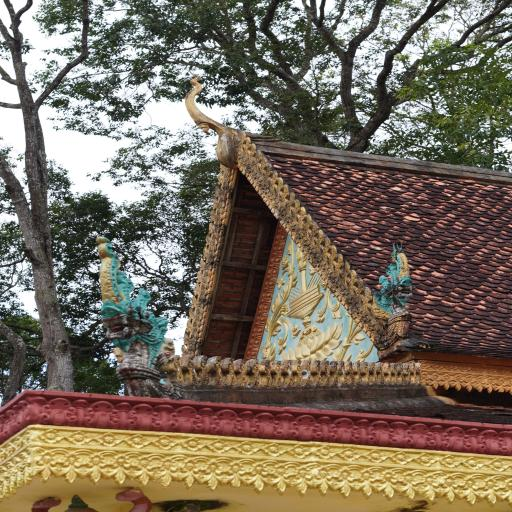hoa: (202, 455, 240, 492), (68, 449, 103, 486), (115, 450, 152, 485), (249, 460, 287, 492), (42, 448, 77, 482), (139, 451, 171, 487), (92, 450, 126, 483), (183, 455, 216, 489), (163, 453, 195, 488), (230, 458, 261, 494), (318, 464, 352, 496), (360, 466, 394, 498), (272, 464, 309, 493), (424, 471, 456, 503), (338, 464, 368, 496), (297, 464, 326, 496), (382, 468, 413, 497), (404, 470, 433, 500), (462, 475, 492, 504), (444, 474, 472, 503), (483, 477, 512, 504), (120, 432, 152, 448), (62, 429, 92, 445), (387, 449, 413, 466), (179, 436, 208, 451), (93, 431, 120, 447), (483, 455, 510, 471), (257, 442, 287, 456), (233, 439, 259, 455), (336, 446, 362, 462), (206, 436, 231, 452), (362, 449, 390, 463), (149, 436, 175, 451), (311, 445, 337, 460), (474, 375, 494, 393), (412, 452, 436, 467), (460, 456, 485, 470), (454, 373, 472, 392), (465, 373, 483, 392), (38, 428, 62, 442), (287, 444, 311, 458), (437, 454, 462, 467), (486, 376, 504, 394), (421, 372, 438, 390), (432, 373, 450, 389), (442, 374, 460, 390), (498, 376, 512, 395), (471, 364, 484, 373), (458, 364, 472, 372), (483, 366, 497, 374), (444, 363, 457, 371), (498, 367, 511, 375), (419, 361, 431, 369), (431, 362, 443, 370)
la: (89, 399, 137, 431), (45, 396, 92, 427), (132, 402, 178, 433), (173, 403, 219, 433), (216, 408, 256, 438), (254, 411, 295, 438), (334, 415, 372, 443), (410, 421, 446, 450), (372, 420, 411, 446), (295, 414, 334, 440), (445, 425, 479, 452), (163, 354, 187, 386), (476, 430, 508, 454), (176, 351, 195, 386), (230, 356, 250, 387), (191, 352, 208, 387), (206, 353, 224, 386), (218, 356, 237, 387), (256, 358, 274, 389), (243, 358, 261, 388), (279, 357, 295, 388), (269, 358, 284, 388), (300, 358, 314, 388), (291, 357, 304, 389), (322, 243, 339, 267), (310, 358, 324, 387), (320, 359, 333, 388), (312, 228, 328, 251), (497, 430, 512, 454), (295, 204, 311, 226), (344, 359, 356, 388), (338, 259, 353, 282), (320, 235, 334, 259), (301, 213, 317, 234), (332, 252, 346, 275), (346, 268, 358, 294), (329, 360, 340, 388), (336, 359, 347, 387), (360, 286, 372, 311), (268, 169, 283, 188), (352, 360, 362, 387), (278, 183, 292, 202), (360, 360, 370, 386), (367, 360, 377, 386), (252, 148, 266, 166), (307, 220, 320, 239), (290, 197, 302, 217), (247, 143, 261, 160), (273, 176, 286, 194), (284, 190, 296, 209), (395, 362, 404, 387), (376, 360, 384, 388), (354, 278, 364, 300), (258, 154, 270, 172), (384, 362, 392, 388), (414, 362, 423, 385), (262, 162, 274, 179), (402, 362, 410, 387), (409, 362, 417, 387), (390, 362, 398, 386), (242, 137, 254, 152), (185, 306, 196, 319), (192, 282, 202, 295), (209, 209, 219, 222), (190, 295, 199, 309), (213, 185, 222, 199), (181, 332, 191, 344), (195, 270, 204, 283), (207, 221, 215, 235), (217, 172, 225, 186), (218, 161, 228, 172), (197, 258, 206, 270), (203, 234, 212, 246), (211, 197, 220, 209), (202, 246, 210, 258), (178, 344, 188, 353), (186, 319, 192, 333)
lua: (178, 74, 250, 164)
ran: (80, 234, 190, 398), (368, 242, 424, 328)
